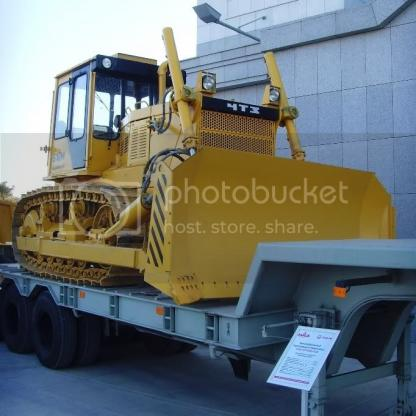bull_dozer/loader/grader: (12, 47, 415, 309)
